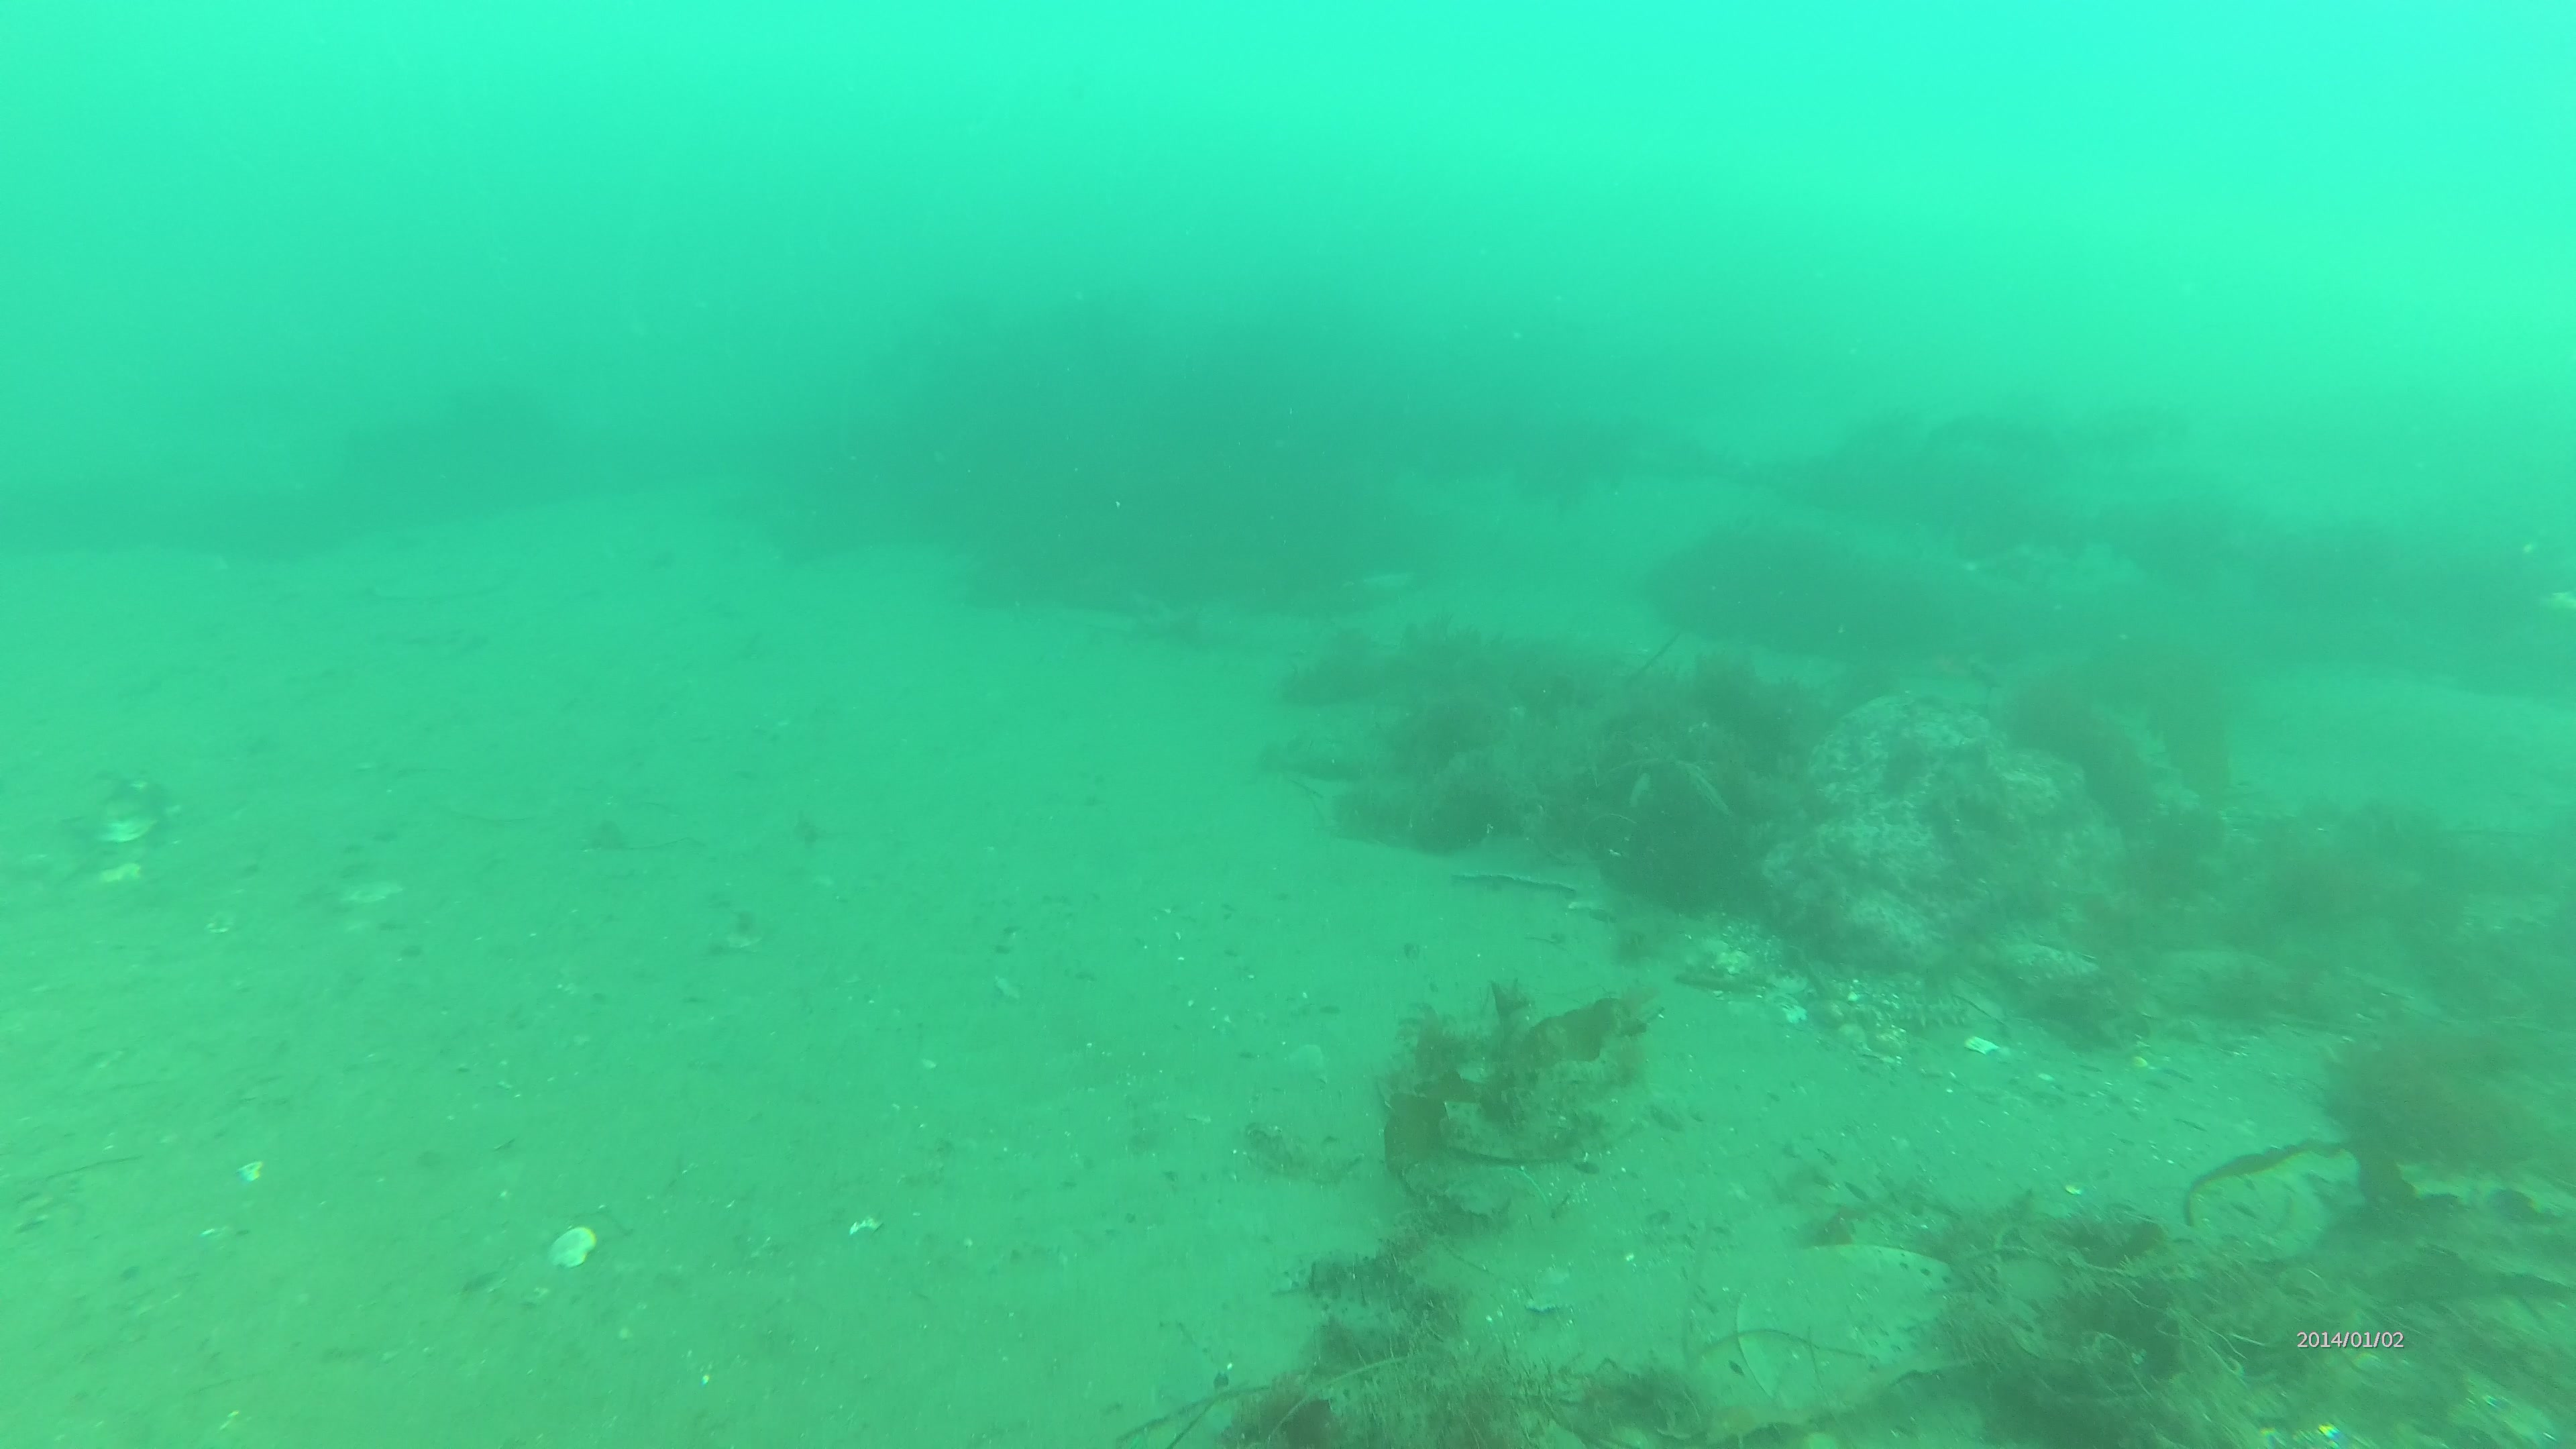holothurian: (1886, 993, 1967, 1028)
scallop: (547, 1226, 598, 1269)
